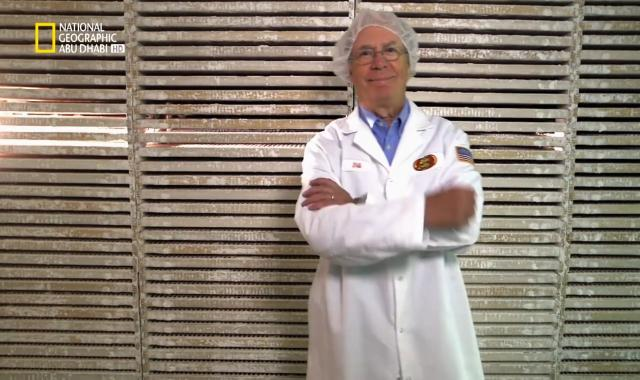hairnet: (334, 10, 421, 85)
